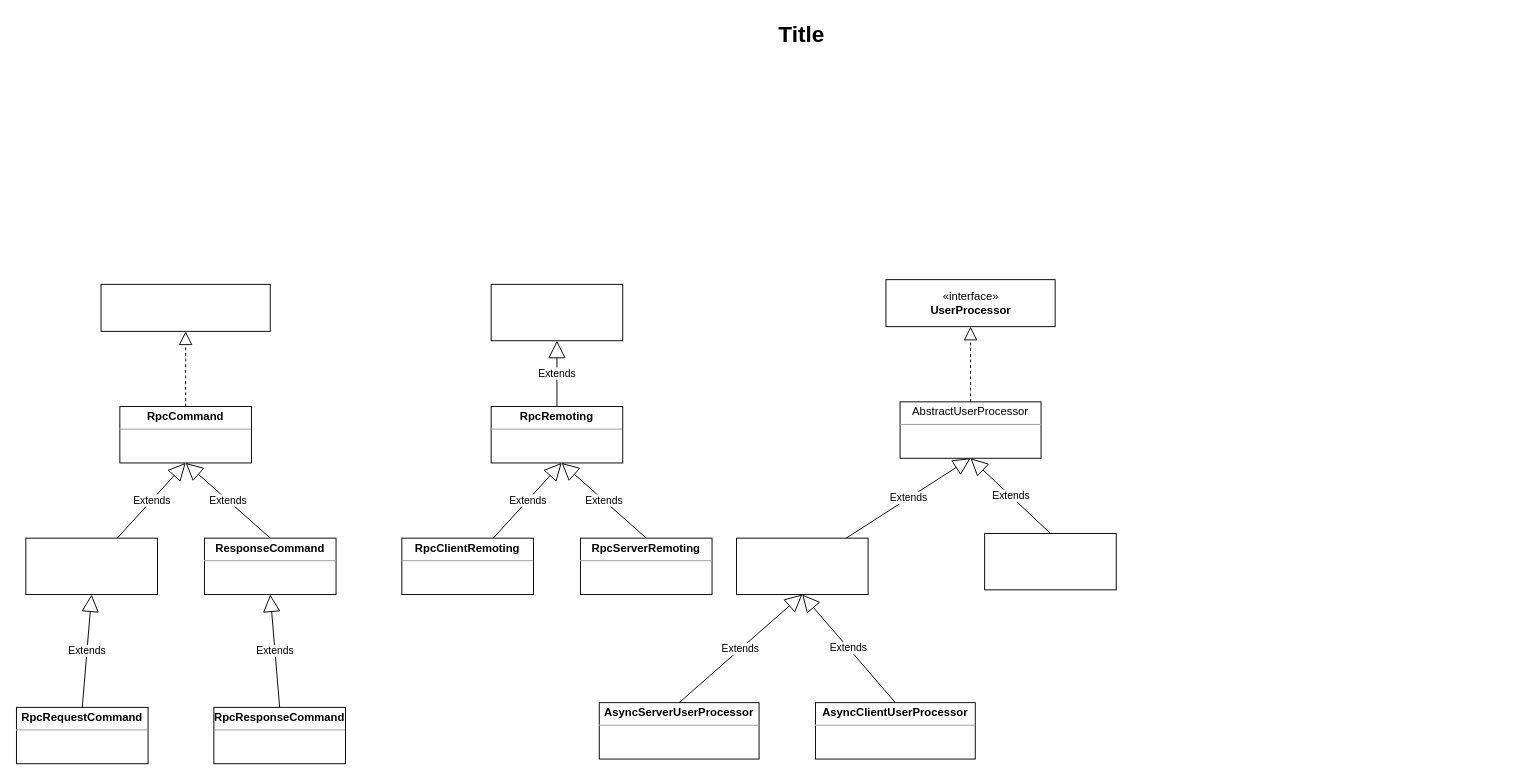
Image size: 1528x780. Some labels were removed from this diagram. Here are the shapes that lost their labels. From the top down, the centre of each, then its label:
At point 185,307: "«interface» RemotingCommand".
At point 556,312: "BaseRemoting".
At point 91,566: "RequestCommand".
At point 802,566: "AsyncUserProcessor".
At point 1050,561: "SyncUserProcessor".
